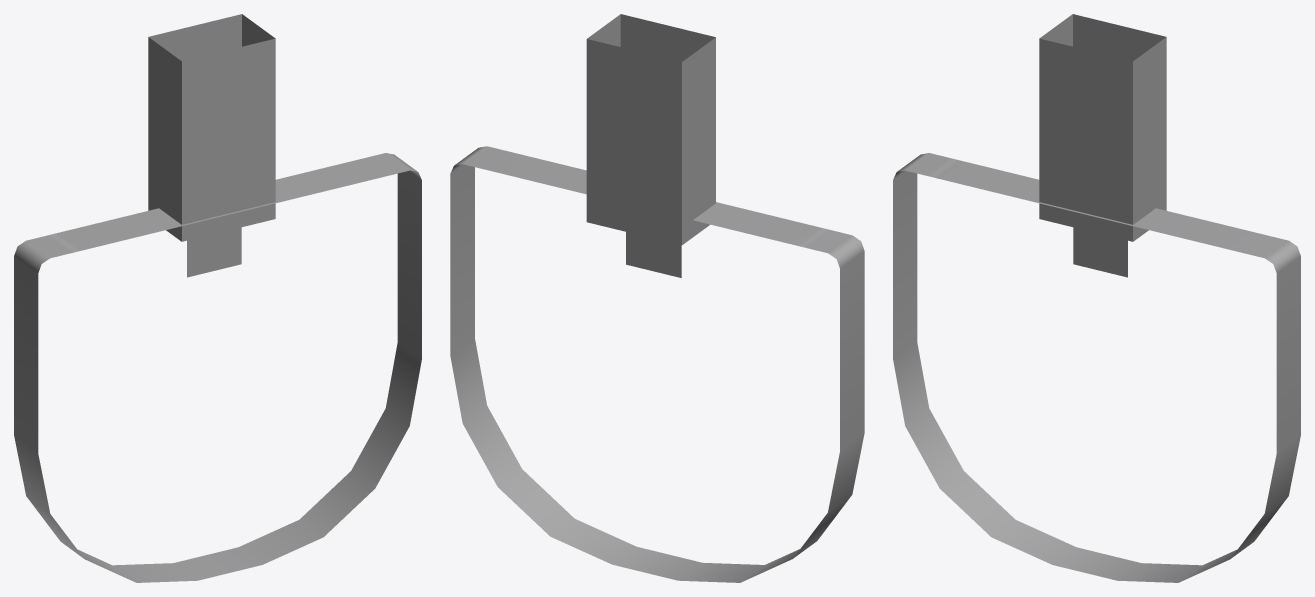
File: ToasterLever1_27_ToasterLever1_27_1_GeomSubset_0.obj
The picture shows the model from 3 angles, left to right: view 1: azimuth 30°, elevation 25°; view 2: azimuth 150°, elevation 25°; view 3: azimuth 330°, elevation 25°; orthographic projection.
Visible parts, largest first — view 1: ToasterLever1_27_ToasterLever1_27_1_GeomSubset_0; view 2: ToasterLever1_27_ToasterLever1_27_1_GeomSubset_0; view 3: ToasterLever1_27_ToasterLever1_27_1_GeomSubset_0.
Boxes of the visible parts, x1,y1,x2,y2 form: ToasterLever1_27_ToasterLever1_27_1_GeomSubset_0: (14, 14, 421, 582); ToasterLever1_27_ToasterLever1_27_1_GeomSubset_0: (450, 14, 864, 582); ToasterLever1_27_ToasterLever1_27_1_GeomSubset_0: (893, 14, 1300, 582).
Bounding box in the file's own units: 0.0245 × 0.0318 × 0.00385.
